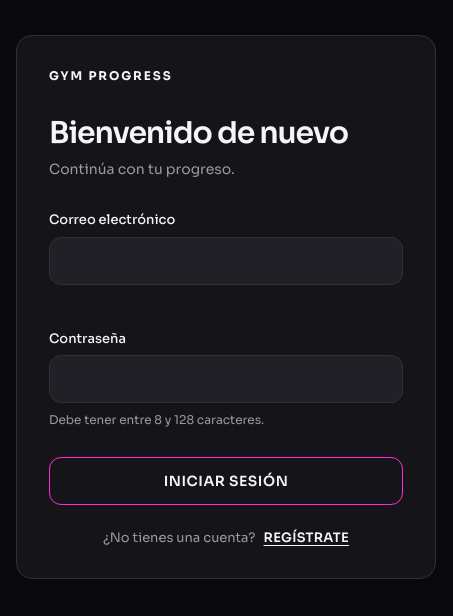
Test: formularios de autenticación › envía exactamente las credenciales introducidas y muestra el error de login seguro
Type " Ana@Example.com " into the field labelled "Correo electrónico" at (226, 260), box [49, 236, 403, 284]
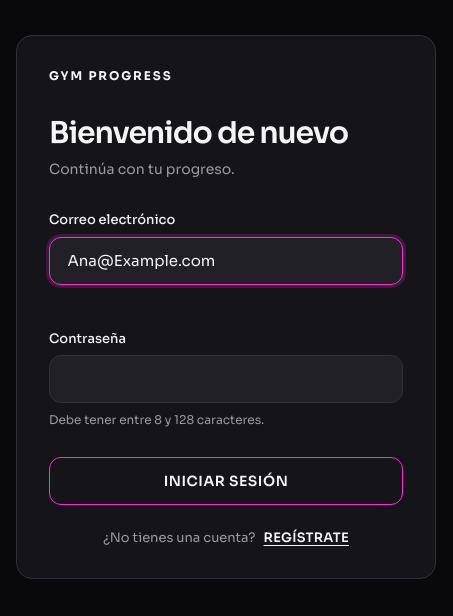
Type " pass word " into the password field labelled "Contraseña" at (226, 379), box [49, 355, 403, 403]
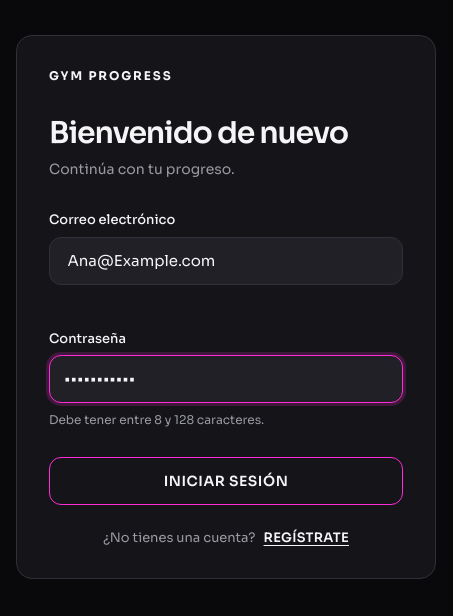
Click the button "INICIAR SESIÓN" at (226, 481), box [49, 457, 403, 505]
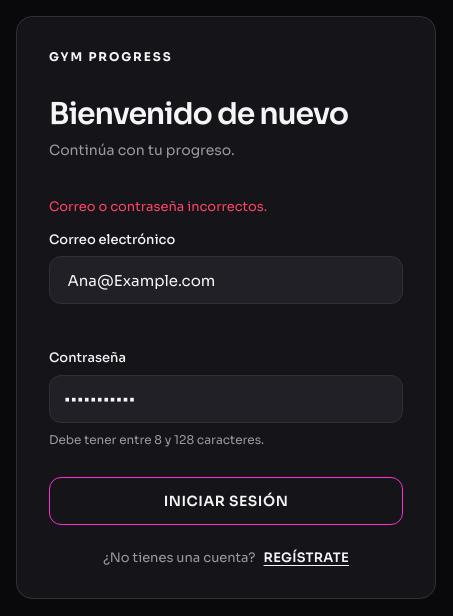
Now the message reads "Correo o contraseña incorrectos.", box [49, 198, 267, 214]
